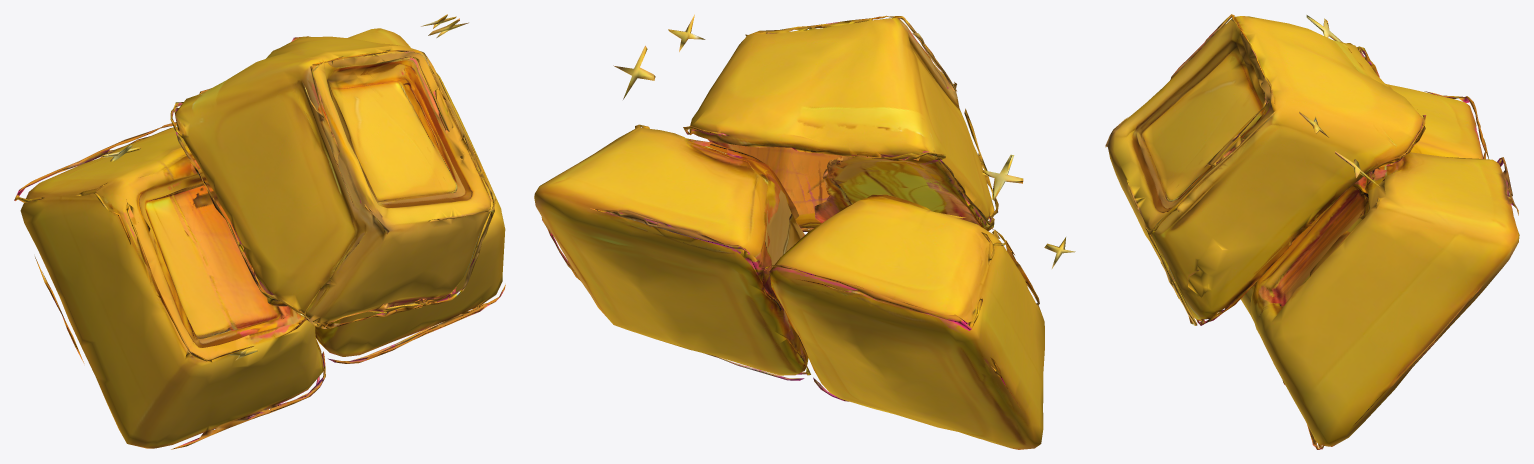
The model's file is oro.fbx.
3 renders of one model, left to right at view 1: azimuth 30°, elevation 25°; view 2: azimuth 150°, elevation 25°; view 3: azimuth 270°, elevation 25°, orthographic. The views are drawn at different scales.
Parts seen in each view (by area): view 1: Mesh_0.011; view 2: Mesh_0.011; view 3: Mesh_0.011.
Part boxes in pixels (bbox=[...]): Mesh_0.011: bbox=[14, 14, 505, 449]; Mesh_0.011: bbox=[534, 14, 1075, 449]; Mesh_0.011: bbox=[1105, 14, 1519, 449].
Bounding box in the file's own units: 0.4064 × 0.3413 × 0.3427.
1 material, 1 textured.
